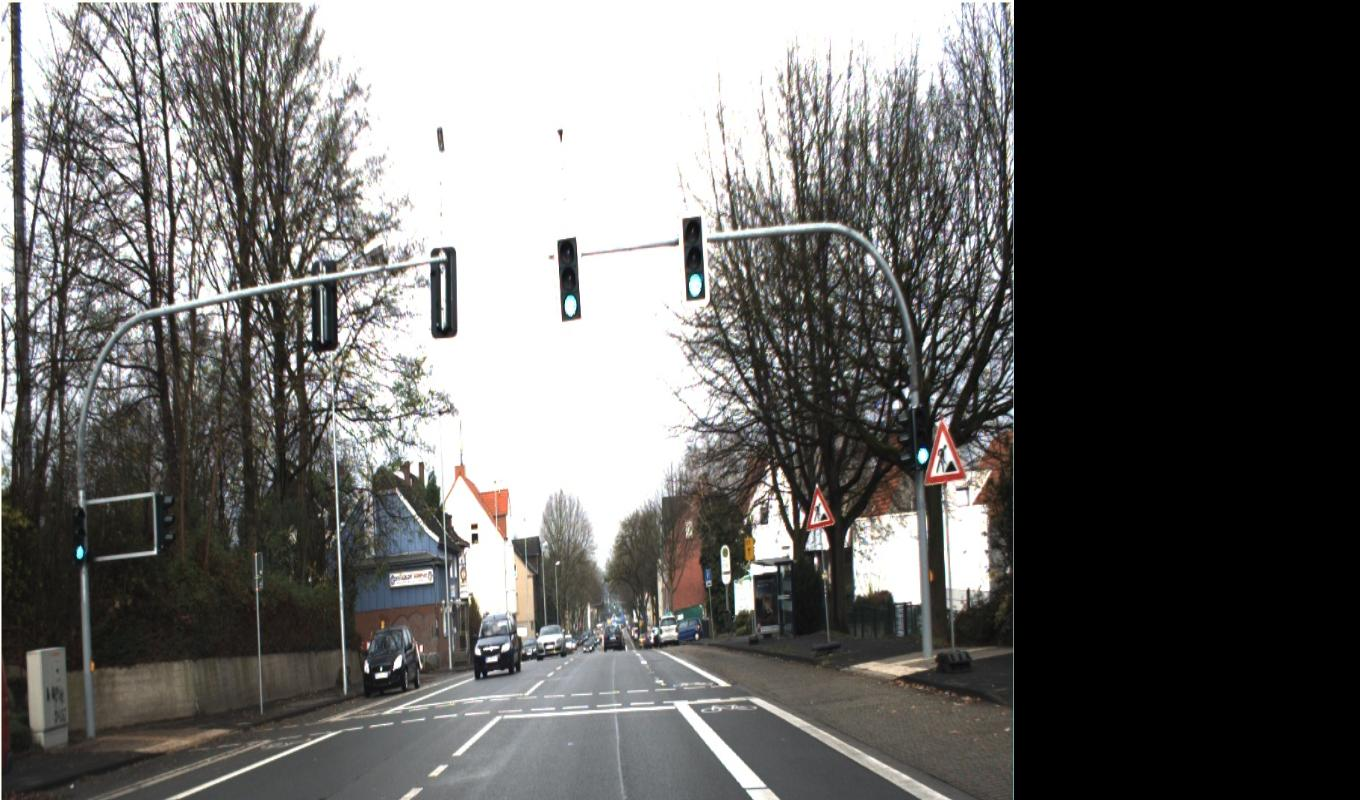construction: (805, 418, 966, 530)
